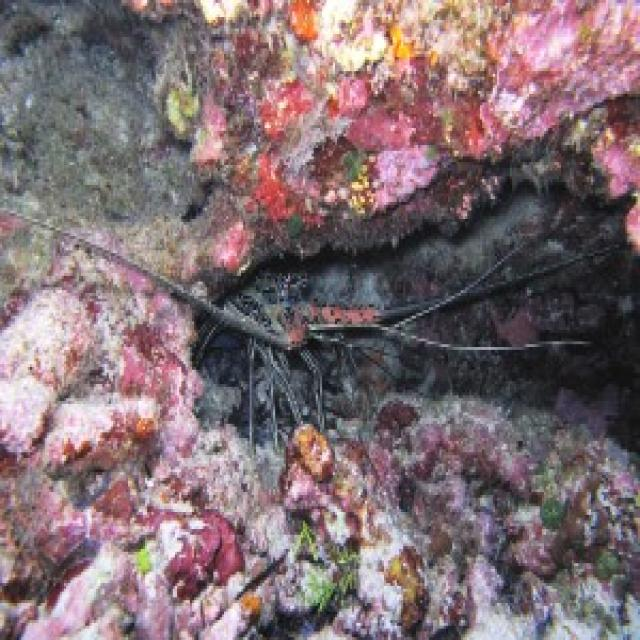lobsters: (96, 165, 619, 438)
